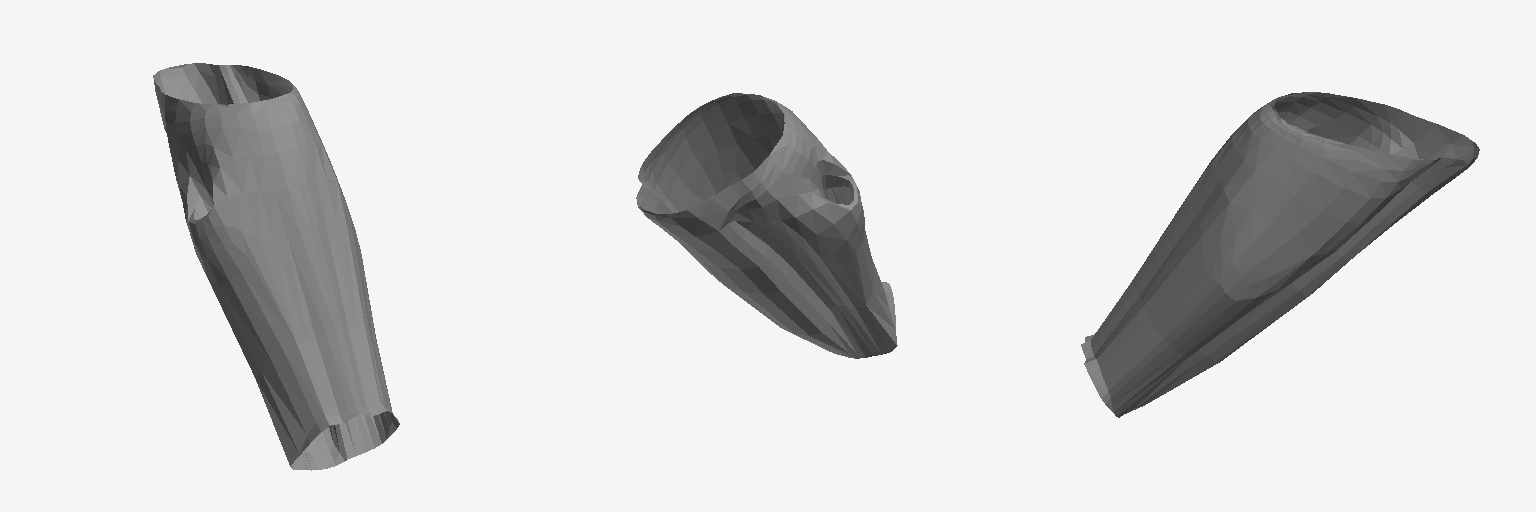
Rendered from mollet_avant_droit.obj.
3 renders of one model, left to right at view 1: azimuth 30°, elevation 25°; view 2: azimuth 150°, elevation 25°; view 3: azimuth 270°, elevation 25°, orthographic.
Visible parts, largest first — view 1: Cube.004_Cube.003; view 2: Cube.004_Cube.003; view 3: Cube.004_Cube.003.
Boxes of the visible parts, box(x1,y1,x2,y2) form: Cube.004_Cube.003: box(153, 63, 399, 470); Cube.004_Cube.003: box(636, 93, 897, 358); Cube.004_Cube.003: box(1081, 92, 1479, 417).
Size of the model in its own units: 0.5085 by 1.01 by 1.17.